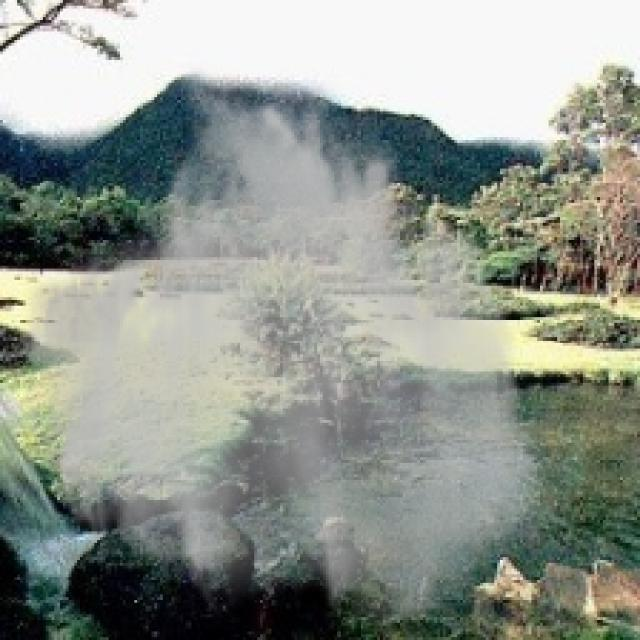Smoke: (17, 63, 543, 632)
